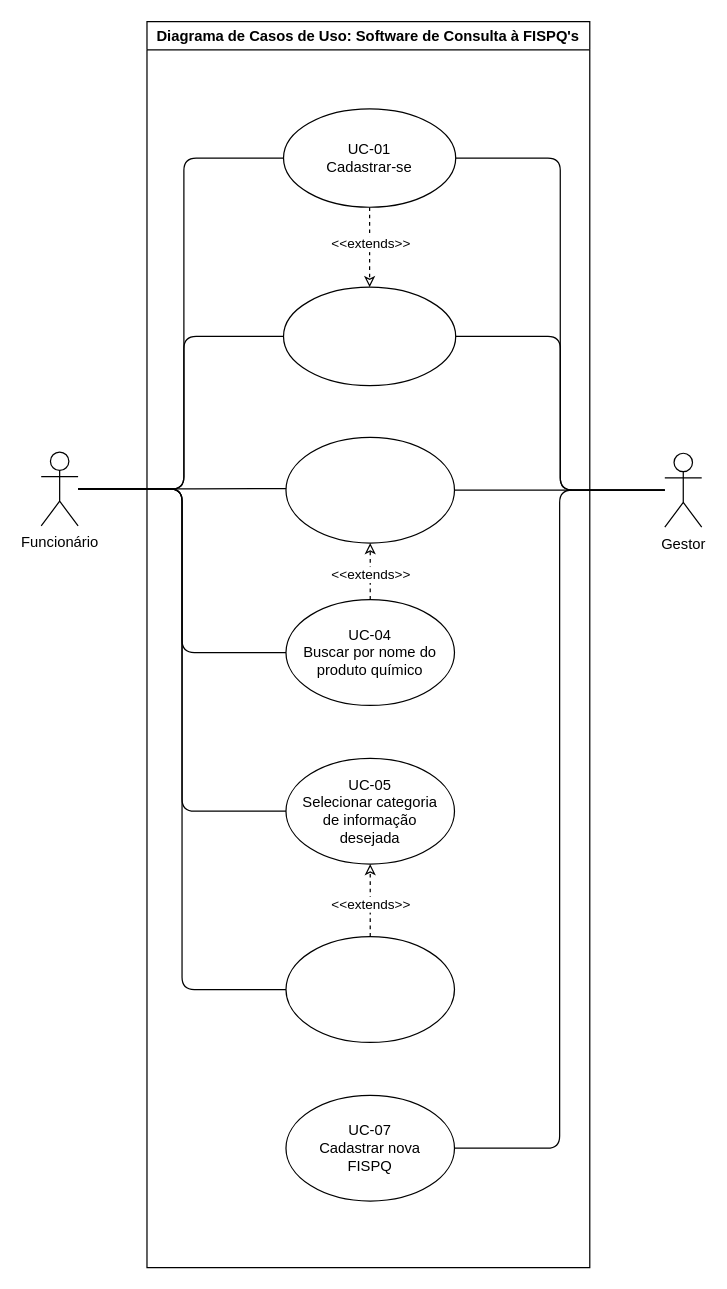
Image size: 727x1289. Some labels were removed from this diagram. The centre of each missing label's shape, as x and y in pixels:
"UC-02 Identificar-se" belongs at point (369, 336).
"UC-03 Visualizar lista de produtos químicos" belongs at point (369, 489).
"UC-06 Selecionar subcategoria de informação desejada" belongs at point (369, 988).
